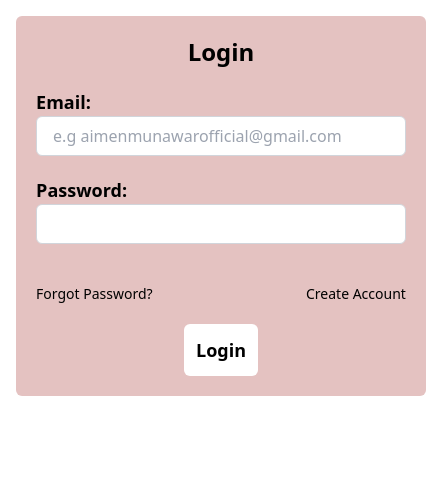
Test: Login Component Display Tests › toggles between Login and Sign Up forms
Expected: the heading "Login" is shown, x1=188 y1=35 x2=254 y2=68
Expected: the field labelled "name" is not shown
Click the text "Create Account" at [356, 294], box x1=306 y1=284 x2=406 y2=304
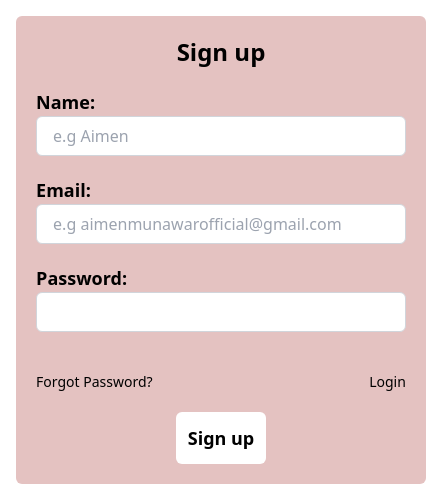
Now the heading "Sign up" is shown, box x1=177 y1=35 x2=265 y2=68
Now the field labelled "Name:" is shown, box x1=36 y1=116 x2=406 y2=156
Click the text "Login" at [388, 382], box x1=369 y1=372 x2=406 y2=392
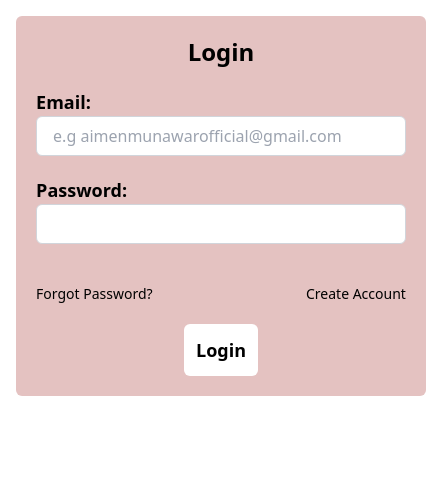
Expected: the heading named "sign up" is shown, x1=188 y1=35 x2=254 y2=68
Now the label labelled "Name" is gone
